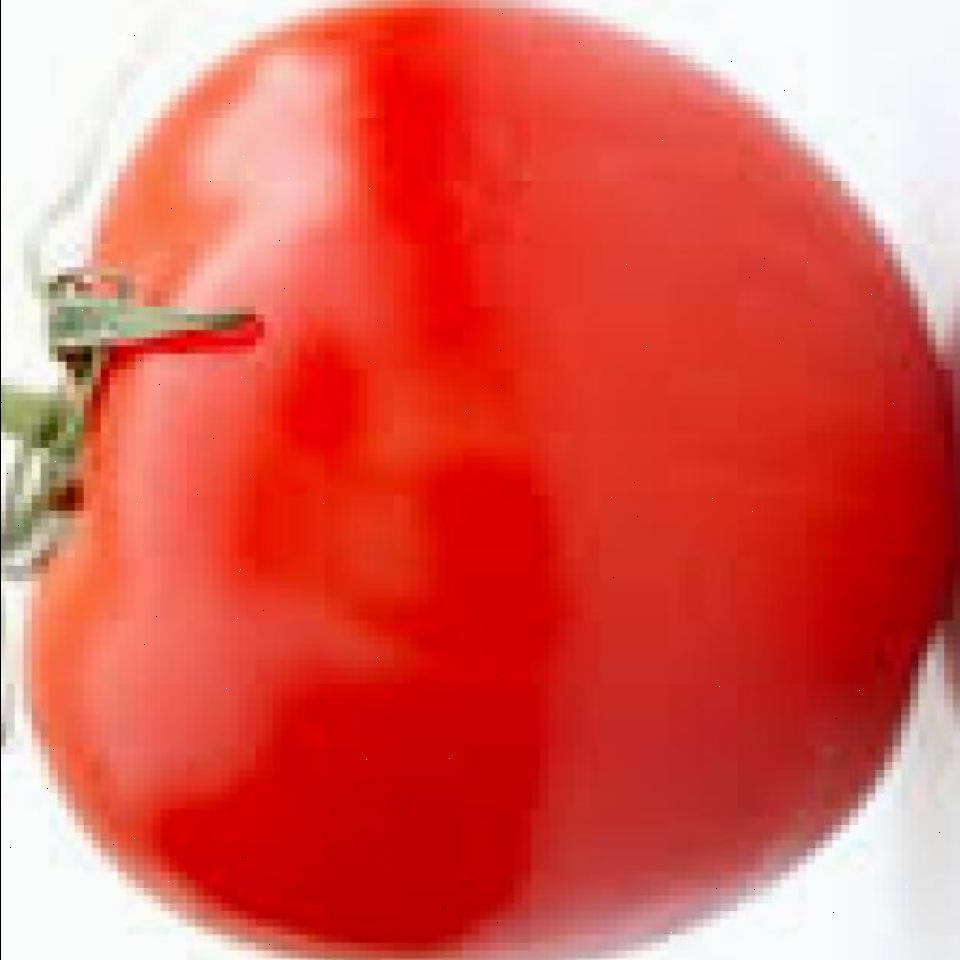Healthy: (17, 22, 960, 960)
